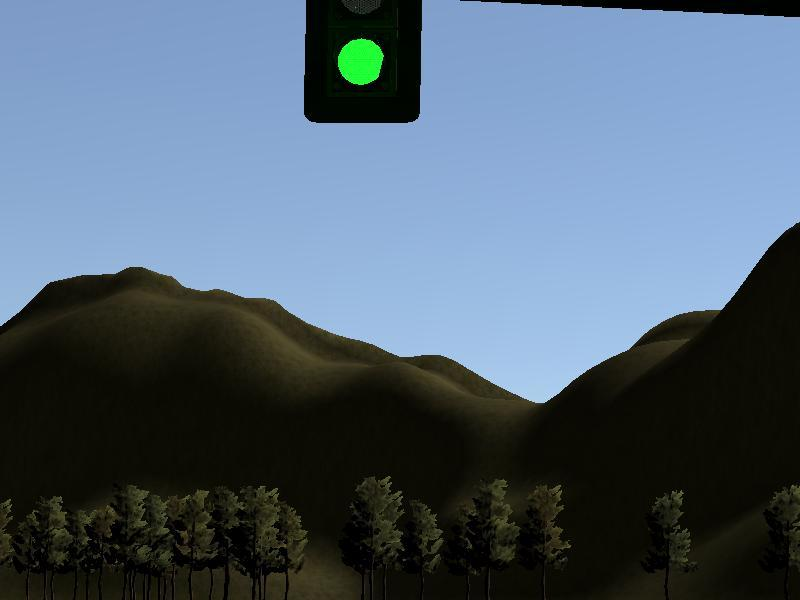Green: (303, 1, 422, 122)
